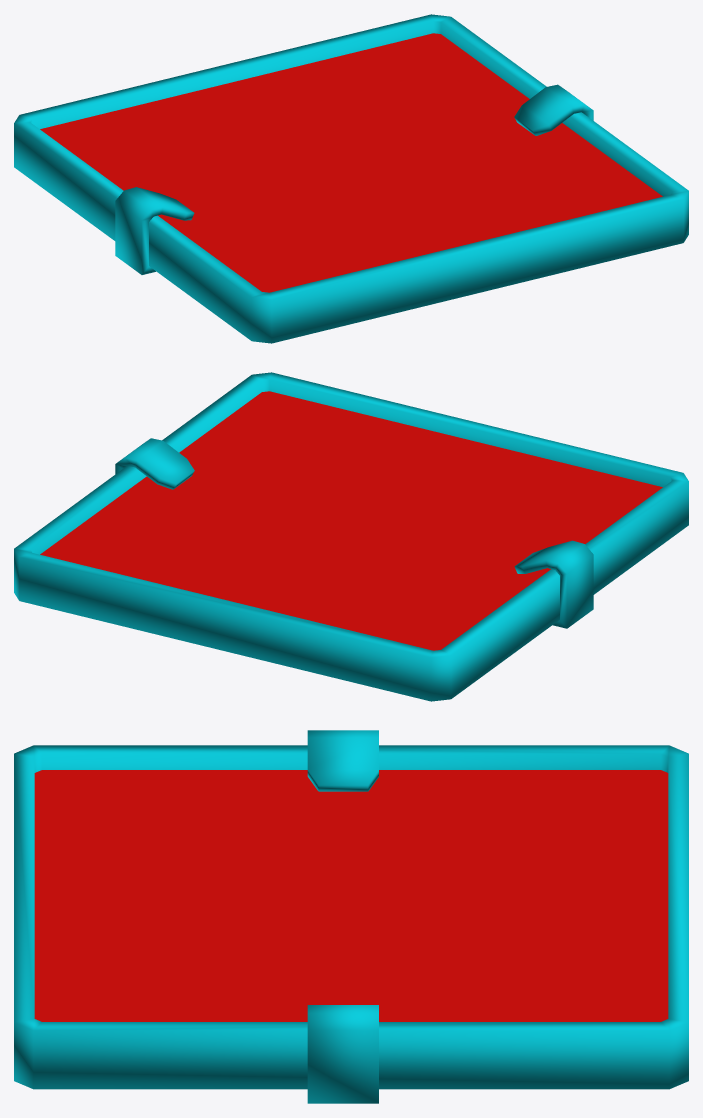
File: squareRing_03.glb
3 views of the same model, one above another, from view 1: azimuth 30°, elevation 25°; view 2: azimuth 150°, elevation 25°; view 3: azimuth 270°, elevation 25° (orthographic). The views are drawn at different scales.
Parts seen in each view (by area): view 1: Cube.001; view 2: Cube.001; view 3: Cube.001.
Part boxes in pixels (x1,y1,x2,y2): Cube.001: (14, 14, 688, 343); Cube.001: (14, 372, 688, 701); Cube.001: (14, 730, 688, 1103).
Bounding box in the file's own units: 2.14 × 0.2881 × 2.07.
